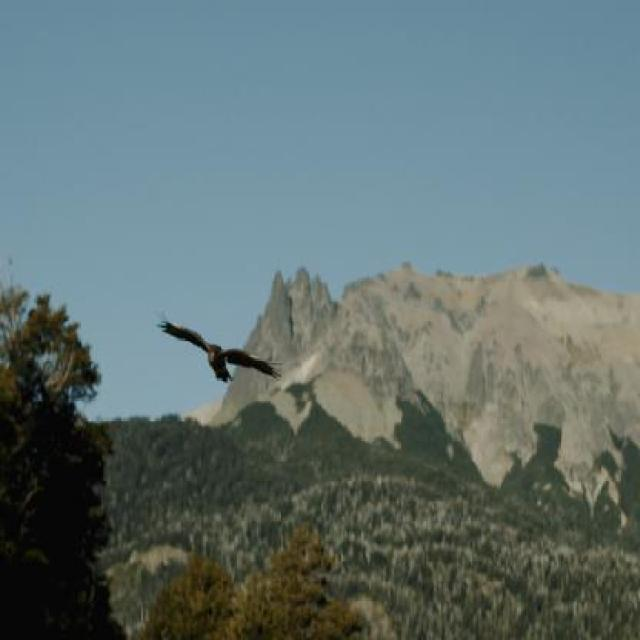bird: (154, 305, 278, 397)
